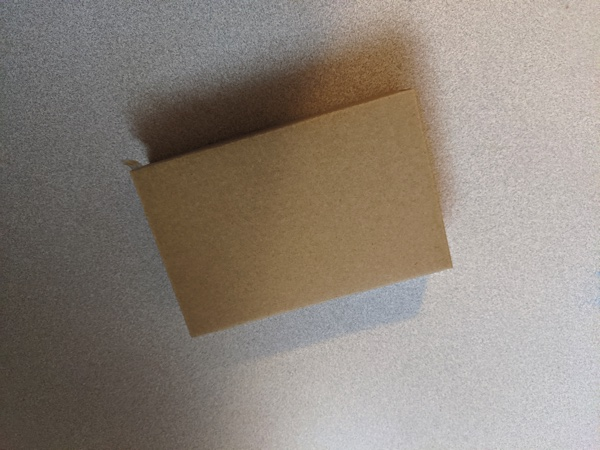cardboard: (114, 78, 470, 352)
